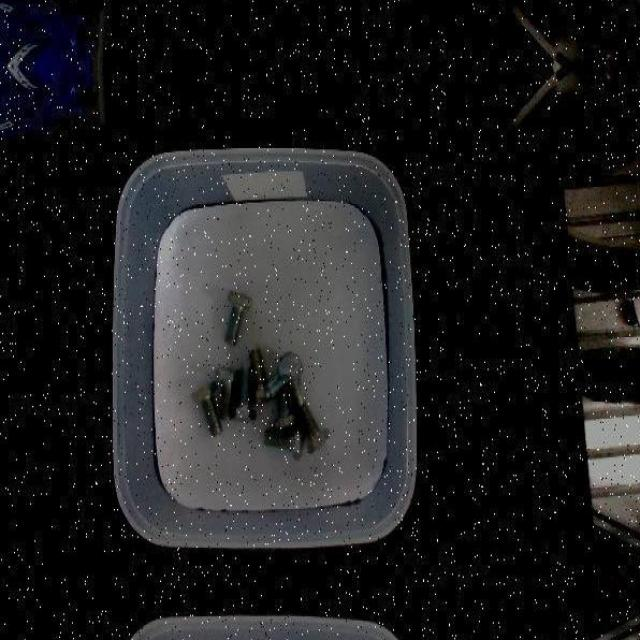screw: (192, 379, 225, 438), (297, 402, 332, 453), (230, 364, 258, 422), (214, 366, 242, 421), (224, 290, 252, 344), (263, 425, 306, 458), (279, 350, 304, 404)
